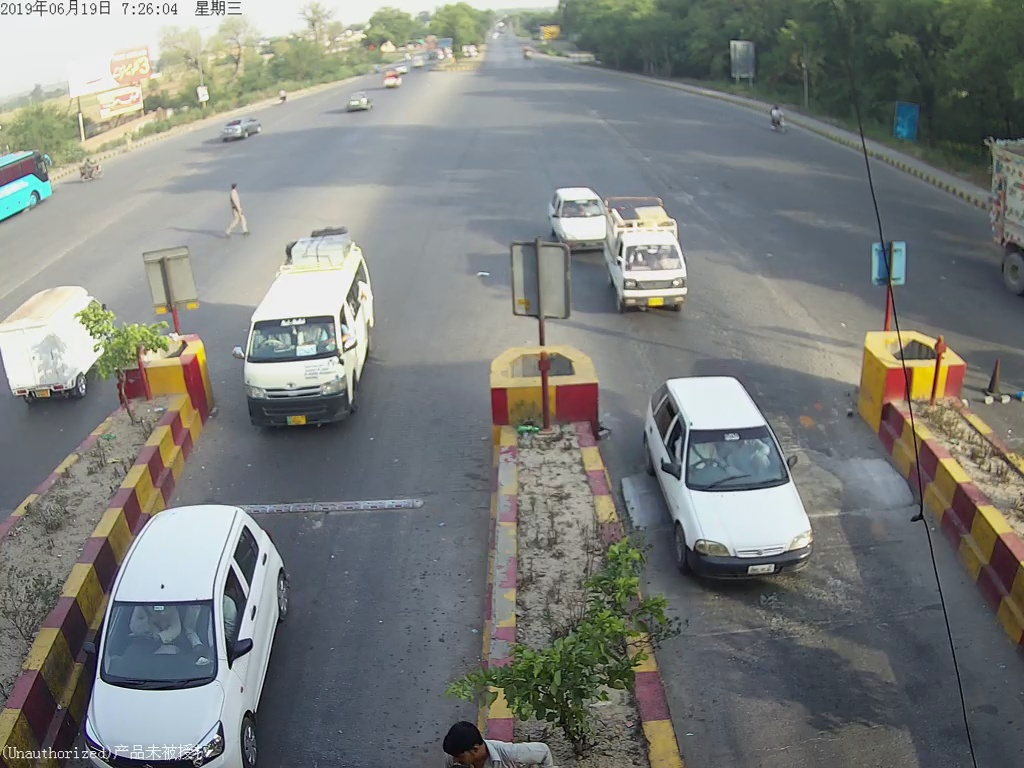Cat-1: (94, 507, 302, 730), (646, 379, 833, 576), (605, 198, 698, 316), (550, 186, 598, 240)
Cat-2: (239, 227, 395, 441)
